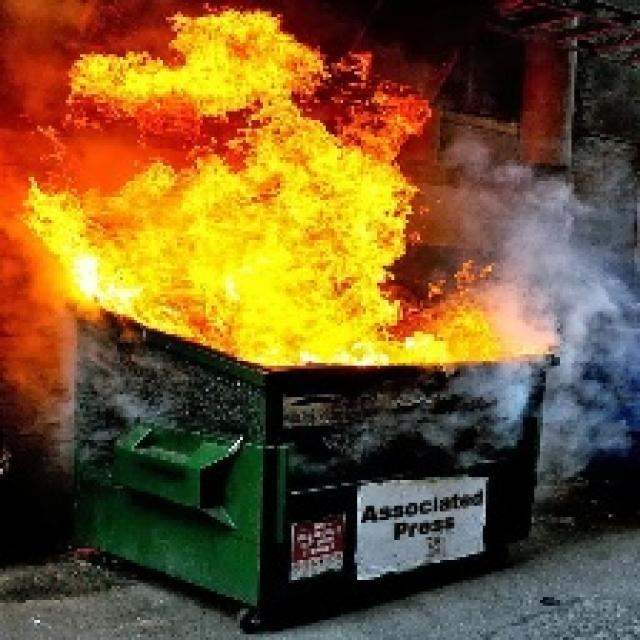Fire: (25, 8, 497, 364)
Smoke: (500, 167, 640, 469)
